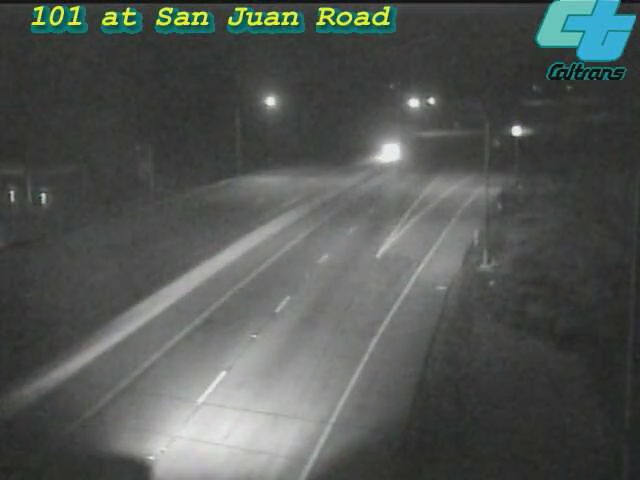vehicle: (362, 126, 412, 176), (493, 105, 543, 155)
